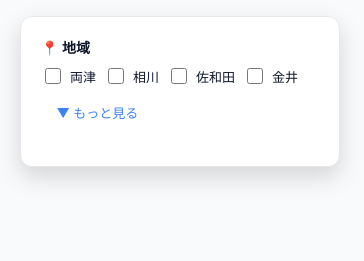
it: FilterPanelCompound › Districts › 展開ボタンで全地域を表示できる
The image size is (364, 261).
Click the button "▼ もっと見る". click: (98, 112)
box: [41, 95, 154, 130]
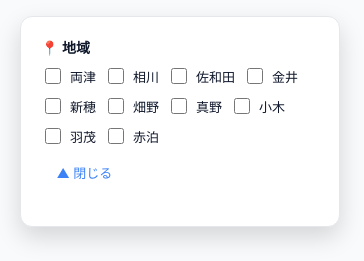
Check: the text "小木" is shown, box [259, 96, 285, 116]
Check: the text "羽茂" is shown, box [70, 126, 96, 146]
